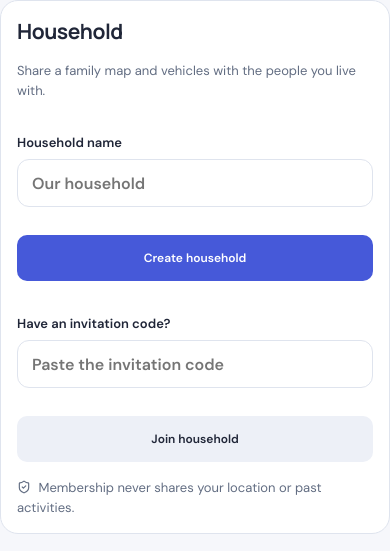
Scenario: Household after the person changes it › loads the members after leaving is undone by creating a new household
Type "Fresh" into the field labelled "Household name".
click(195, 183); type("Fresh")  # box [17, 159, 373, 207]
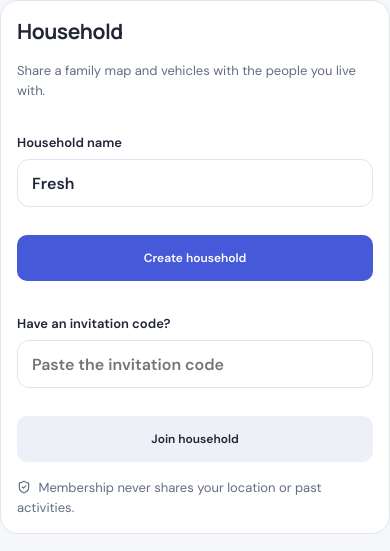
Submit the form labelled "Household name Create household", box [17, 134, 373, 281]
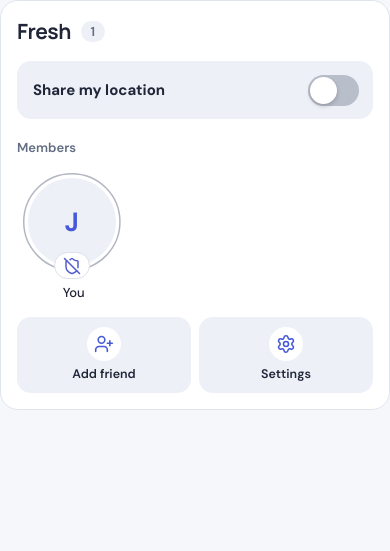
Expected: the picture named "Julius avatar" is shown, [28, 178, 116, 266]
Result: the heading "Fresh" is shown at [17, 17, 71, 45]
